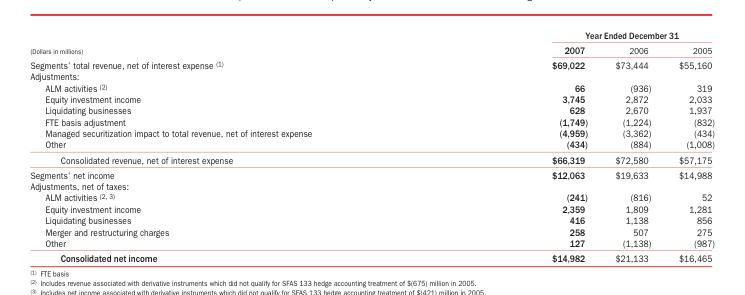table: (29, 29, 713, 263)
table column: (29, 29, 431, 263), (431, 29, 600, 263), (600, 29, 664, 263), (664, 29, 713, 263)
table column header: (29, 29, 713, 57)
table projected row header: (29, 70, 713, 81), (29, 180, 713, 191)
table row: (29, 151, 713, 167), (29, 42, 713, 57), (29, 29, 713, 42), (29, 57, 713, 70), (29, 138, 713, 151), (29, 167, 713, 180), (29, 237, 713, 250), (29, 250, 713, 263), (29, 81, 713, 93), (29, 115, 713, 127), (29, 191, 713, 203), (29, 225, 713, 237), (29, 70, 713, 81), (29, 93, 713, 104), (29, 104, 713, 115), (29, 127, 713, 138), (29, 180, 713, 191), (29, 203, 713, 214), (29, 214, 713, 225)
table spanning cell: (29, 29, 431, 57), (431, 29, 713, 42)
